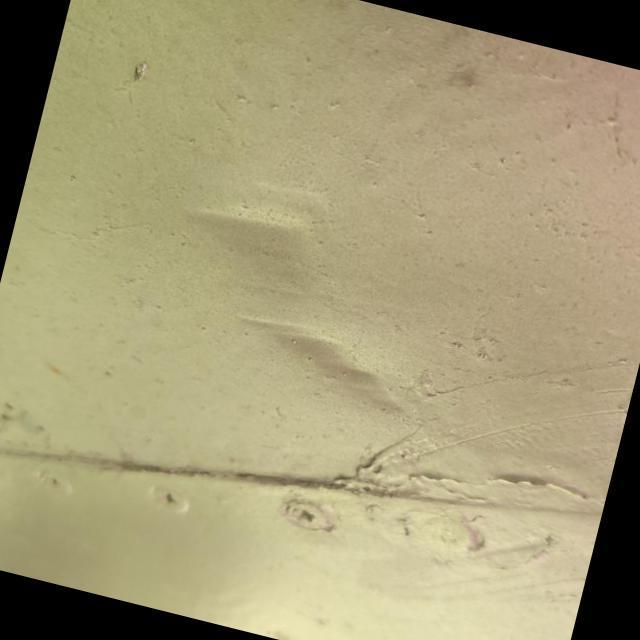Dent: (113, 140, 472, 447)
